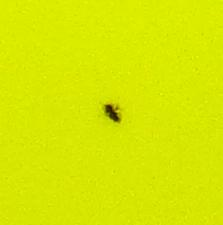Brachycera: (100, 100, 123, 125)
